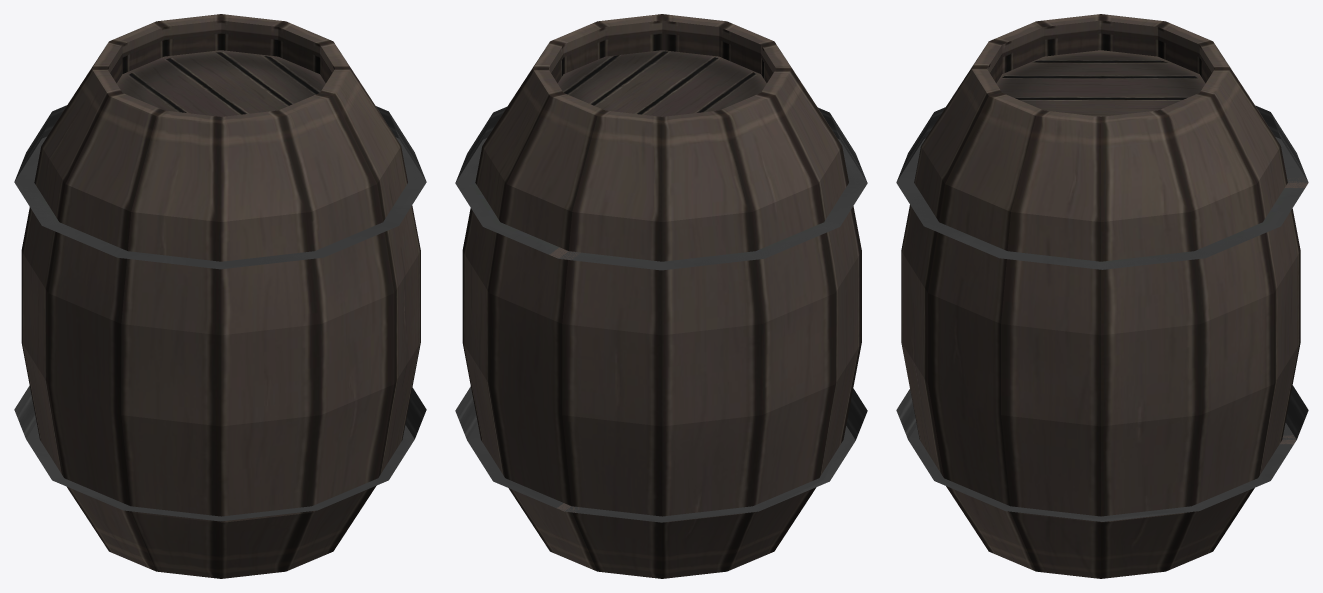
File: r酒桶.fbx
3 renders of one model, left to right at view 1: azimuth 30°, elevation 25°; view 2: azimuth 150°, elevation 25°; view 3: azimuth 270°, elevation 25°, orthographic.
Parts seen in each view (by area): view 1: Cylinder, Cylinder.004, Cylinder.003; view 2: Cylinder, Cylinder.004, Cylinder.003; view 3: Cylinder, Cylinder.004, Cylinder.003.
Boxes of the visible parts, box(x1,y1,x2,y2) form: Cylinder: box(21, 14, 420, 578); Cylinder.004: box(14, 105, 426, 521); Cylinder.003: box(116, 50, 325, 116); Cylinder: box(462, 14, 861, 578); Cylinder.004: box(455, 107, 867, 522); Cylinder.003: box(557, 50, 766, 116); Cylinder: box(901, 14, 1300, 578); Cylinder.004: box(896, 105, 1308, 521); Cylinder.003: box(996, 50, 1205, 116).
Size of the model in its own units: 52.53 by 64 by 52.52.
Materials: 2 (2 with a texture image).
